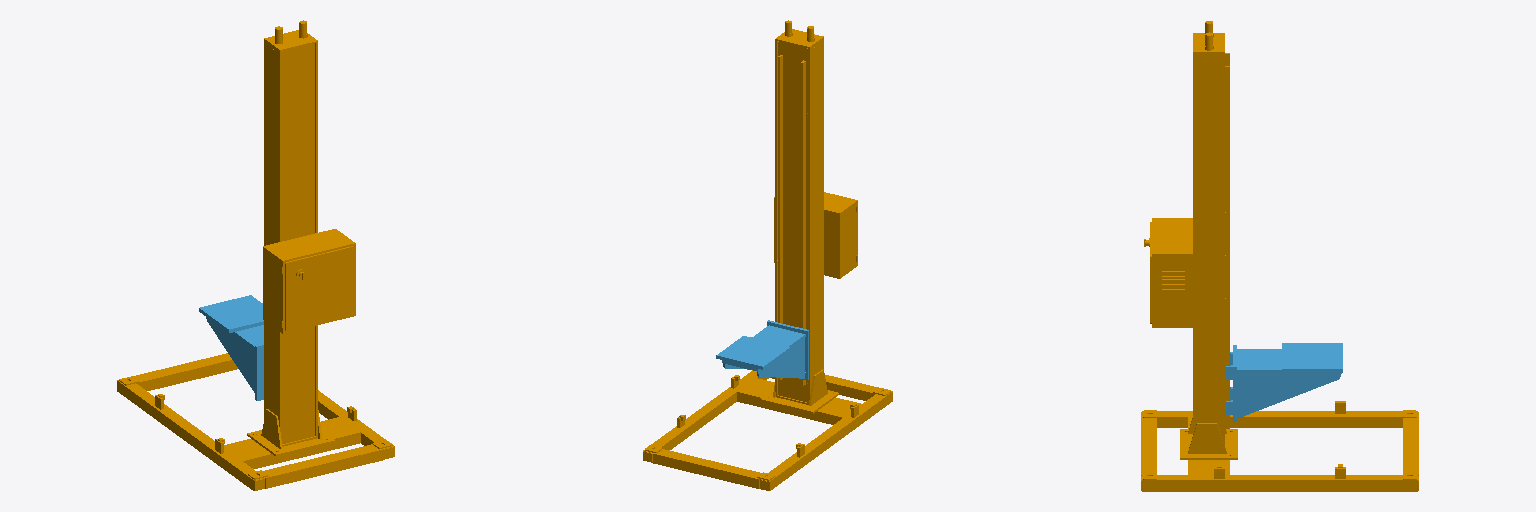
robot.urdf — robotiq_ax_series_base:
<?xml version="1.0"?>
<robot name="robotiq_ax_series_base">
<link name="base_link"><visual ><geometry ><mesh filename="../meshes/base_link.obj"/></geometry></visual><collision ><origin xyz="-0.372 0 0.03" rpy="0 0 0"/><geometry ><box size="0.065 1.37 0.06"/></geometry></collision><collision ><origin xyz="0.372 0 0.03" rpy="0 0 0"/><geometry ><box size="0.065 1.37 0.06"/></geometry></collision><collision ><origin xyz="0 0.645 0.0335" rpy="0 0 0"/><geometry ><box size="0.799 0.08 0.067"/></geometry></collision><collision ><origin xyz="0 -0.645 0.0335" rpy="0 0 0"/><geometry ><box size="0.799 0.08 0.067"/></geometry></collision><collision ><origin xyz="0 -0.35 0.03" rpy="0 0 0"/><geometry ><box size="0.679 0.21 0.06"/></geometry></collision><collision ><origin xyz="0 -0.35 0.068" rpy="0 0 0"/><geometry ><box size="0.34 0.29 0.016"/></geometry></collision><collision ><origin xyz="0 -0.3575 0.1535" rpy="0 0 0"/><geometry ><box size="0.24 0.195 0.163"/></geometry></collision><collision ><origin xyz="-0.37575 -0.3 0.09275" rpy="0 0 0"/><geometry ><box size="0.0315 0.055 0.0675"/></geometry></collision><collision ><origin xyz="-0.37575 0.3 0.09275" rpy="0 0 0"/><geometry ><box size="0.0315 0.055 0.0675"/></geometry></collision><collision ><origin xyz="0.37575 -0.3 0.09275" rpy="0 0 0"/><geometry ><box size="0.0315 0.055 0.0675"/></geometry></collision><collision ><origin xyz="0.37575 0.3 0.09275" rpy="0 0 0"/><geometry ><box size="0.0315 0.055 0.0675"/></geometry></collision><collision ><origin xyz="0 -0.3485 1.163" rpy="0 0 0"/><geometry ><box size="0.2212 0.163 2.182"/></geometry></collision><collision ><origin xyz="0 -0.2635 1.175" rpy="0 0 0"/><geometry ><box size="0.166 0.029 1.97"/></geometry></collision><collision ><origin xyz="0 -0.35 2.294" rpy="0 0 0"/><geometry ><box size="0.184 0.044 0.08"/></geometry></collision><collision ><origin xyz="0.003 -0.529 0.991" rpy="0 0 0"/><geometry ><box size="0.432 0.226 0.418"/></geometry></collision><collision ><origin xyz="-0.115 -0.6555 1.112" rpy="0 0 0"/><geometry ><box size="0.046 0.034 0.046"/></geometry></collision></link>
<link name="carriage"><visual ><geometry ><mesh filename="../meshes/carriage.obj"/></geometry></visual><collision ><origin xyz="0 0.0315 0" rpy="0 0 0"/><geometry ><box size="0.26 0.071 0.3"/></geometry></collision><collision ><origin xyz="0 0.1124 -0.006" rpy="0 0 0"/><geometry ><box size="0.235 0.1308 0.272"/></geometry></collision><collision ><origin xyz="0 0.2431 0.0219" rpy="0 0 0"/><geometry ><box size="0.235 0.1308 0.2162"/></geometry></collision><collision ><origin xyz="0 0.3739 0.04985" rpy="0 0 0"/><geometry ><box size="0.235 0.1308 0.1603"/></geometry></collision><collision ><origin xyz="0 0.5046 0.07775" rpy="0 0 0"/><geometry ><box size="0.235 0.1308 0.1045"/></geometry></collision><collision ><origin xyz="0 0.42 0.14" rpy="0 0 0"/><geometry ><box size="0.3 0.3 0.02"/></geometry></collision></link>
<link name="robot_mount"></link>
<joint name="lift_joint" type="prismatic"><parent link="base_link"/><child link="carriage"/><origin xyz="0 -0.26 0.4" rpy="0 0 0"/><axis xyz="0 0 1"/><limit lower="0" upper="1.5" velocity="0.3" effort="3000"/></joint>
<joint name="robot_mount_joint" type="fixed"><parent link="carriage"/><child link="robot_mount"/><origin xyz="0 0.42 0.15" rpy="0 0 0"/></joint>
</robot>

--- Facts derived from the render (not from the file) ---
Views: 3 orthographic renders of the robot side by side, from view 1: azimuth 30°, elevation 25°; view 2: azimuth 150°, elevation 25°; view 3: azimuth 270°, elevation 25°.
Model robotiq_ax_series_base with 3 links and 2 joints (1 prismatic, 1 fixed), rooted at base_link, posed all joints at 0.
Visible links, largest first — view 1: base_link, carriage; view 2: base_link, carriage; view 3: base_link, carriage.
Boxes of the visible links, x1=… form: base_link: x1=117, y1=20, x2=394, y2=490; carriage: x1=199, y1=295, x2=263, y2=400; base_link: x1=643, y1=20, x2=892, y2=490; carriage: x1=716, y1=320, x2=808, y2=380; base_link: x1=1141, y1=21, x2=1418, y2=491; carriage: x1=1226, y1=343, x2=1342, y2=421.
Size in the robot's own frame: 0.809 by 1.37 by 2.33 metres.
2 mesh visuals loaded from 2 distinct referenced files (2 OBJ).
